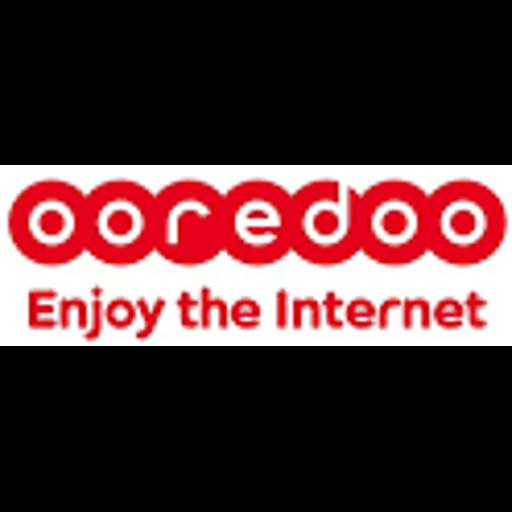Ooredoo QSC: (0, 165, 512, 346)
